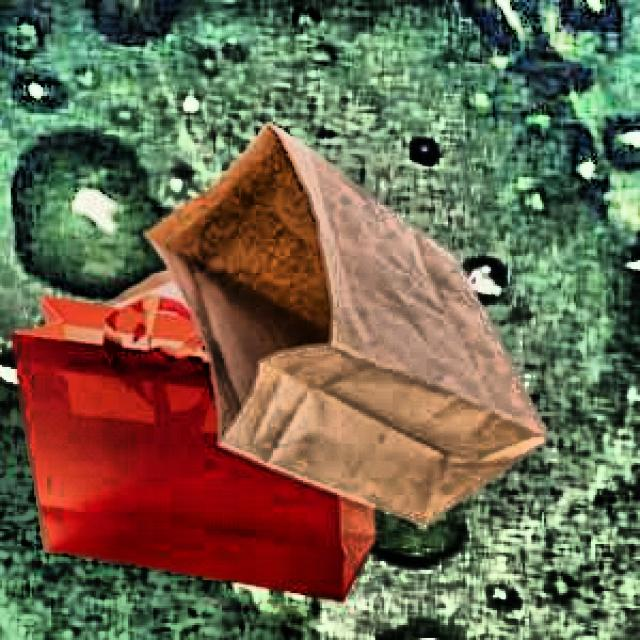Paper-bag: (146, 117, 556, 534), (0, 280, 405, 606)
